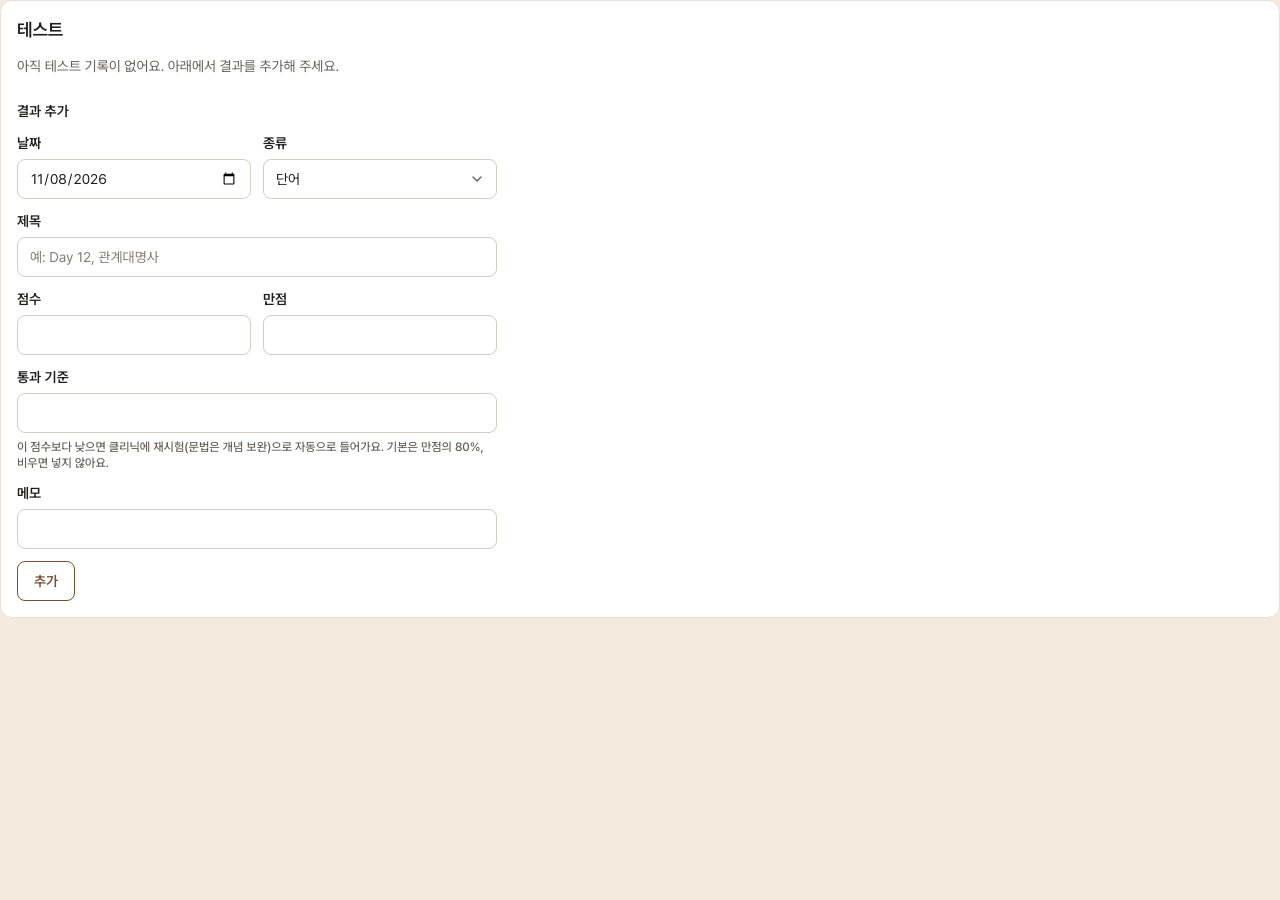
it: StudentTestsTab › does not add when the score is above the max
Step 1. Type "Day 1" into the field labelled "제목" → (257, 257), box 17,237 -> 497,277
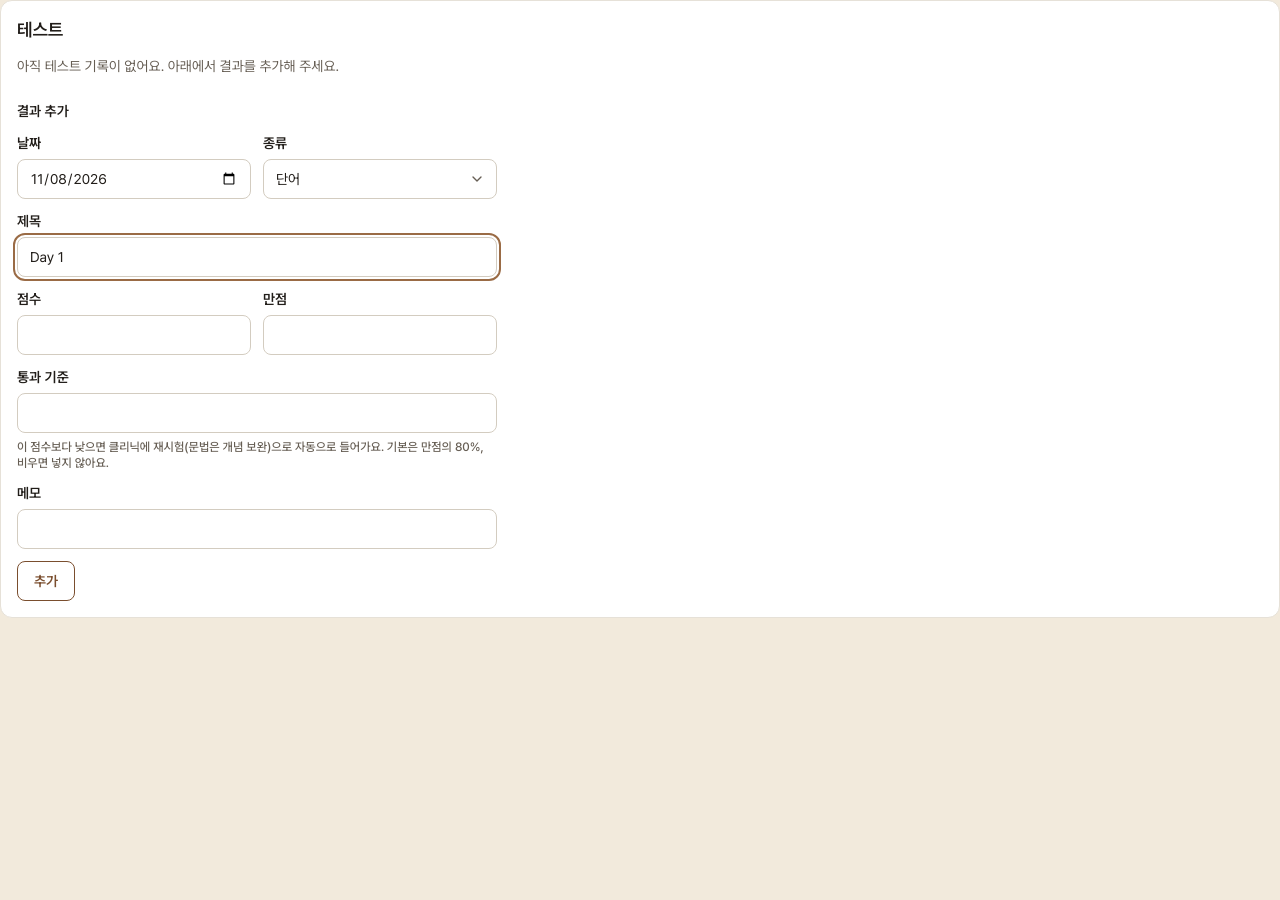
Step 2. Type "21" into the field labelled "점수" → (134, 335), box 17,315 -> 251,355
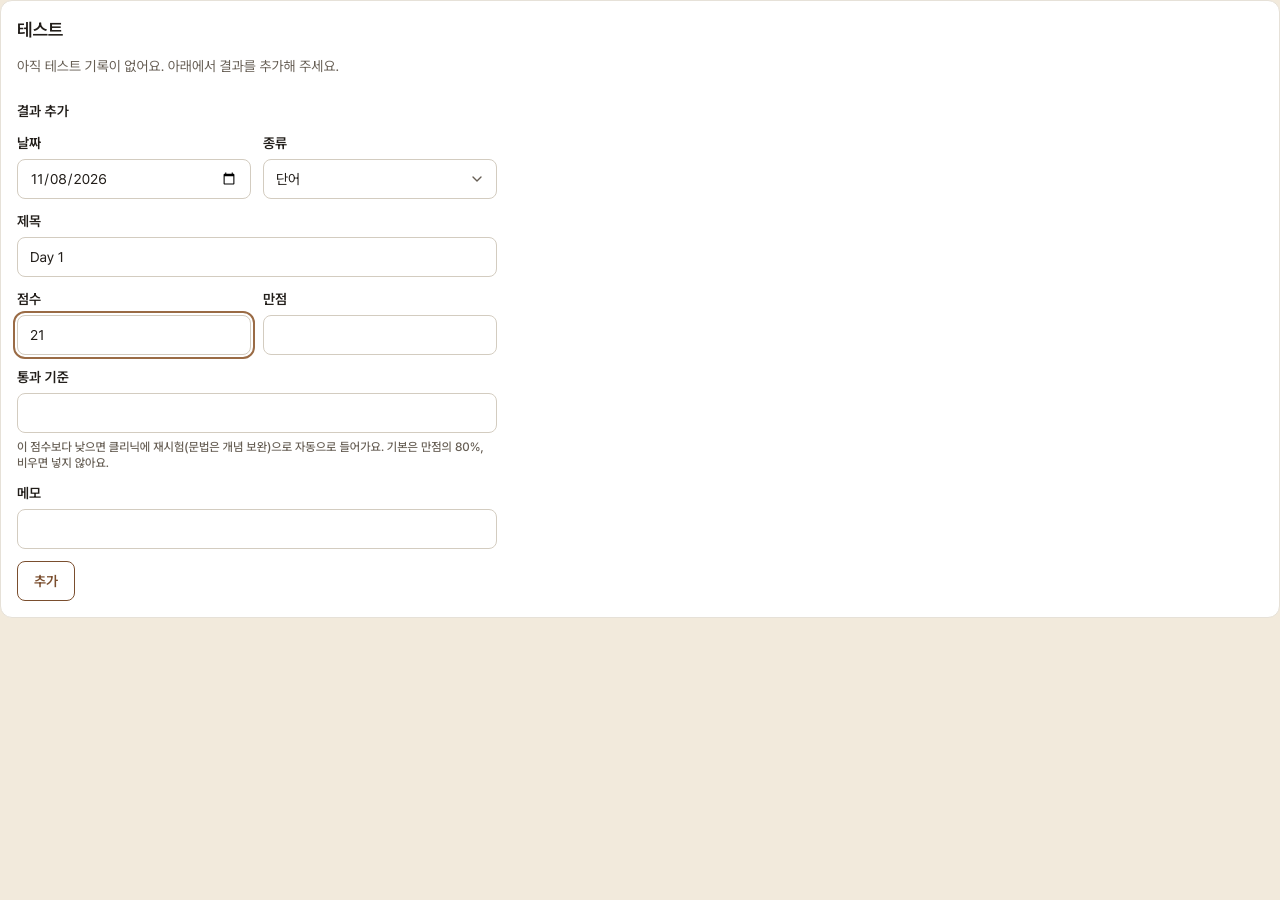
Step 3. Type "20" into the field labelled "만점" → (380, 335), box 263,315 -> 497,355
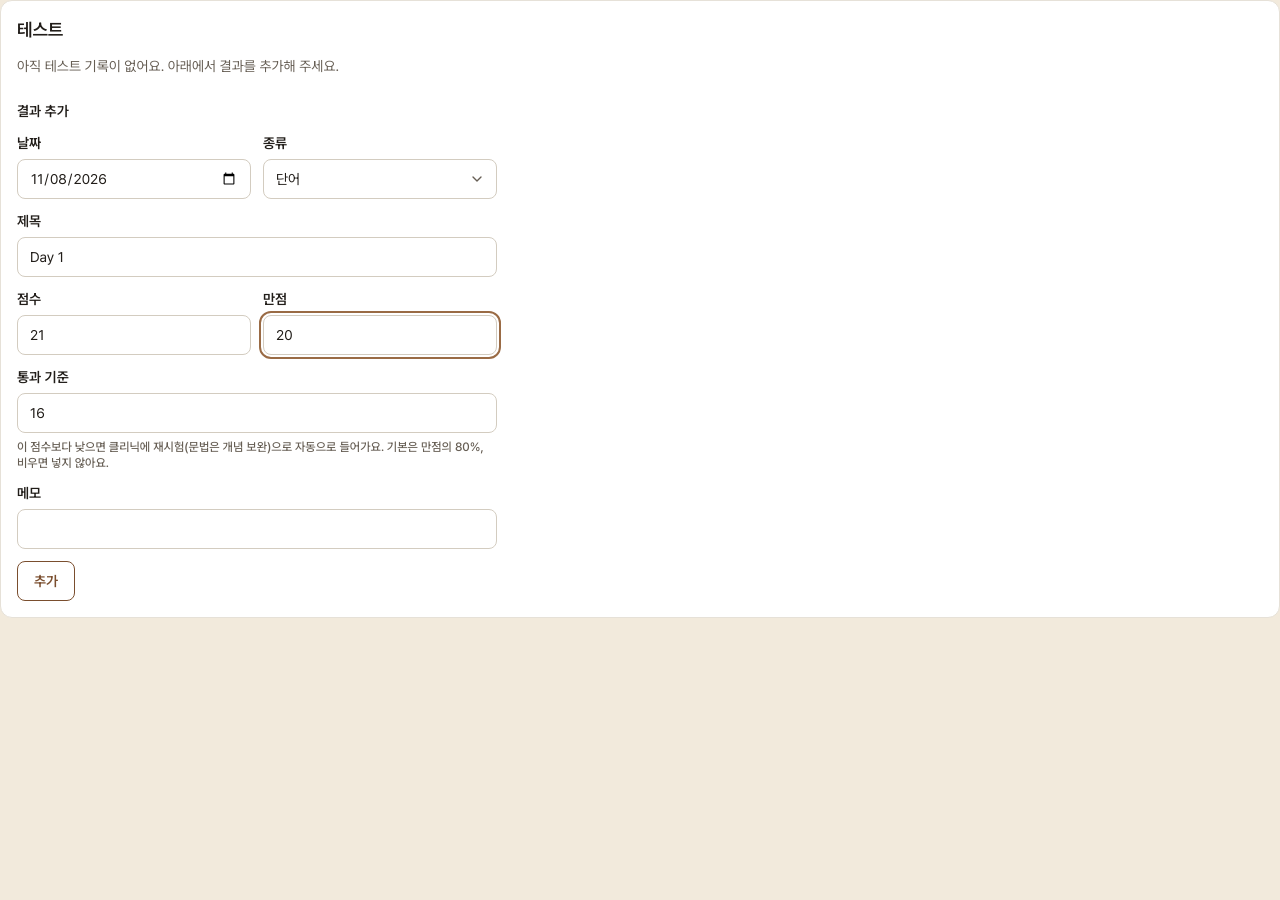
Step 4. Click the button "추가" → (46, 581), box 17,561 -> 75,601
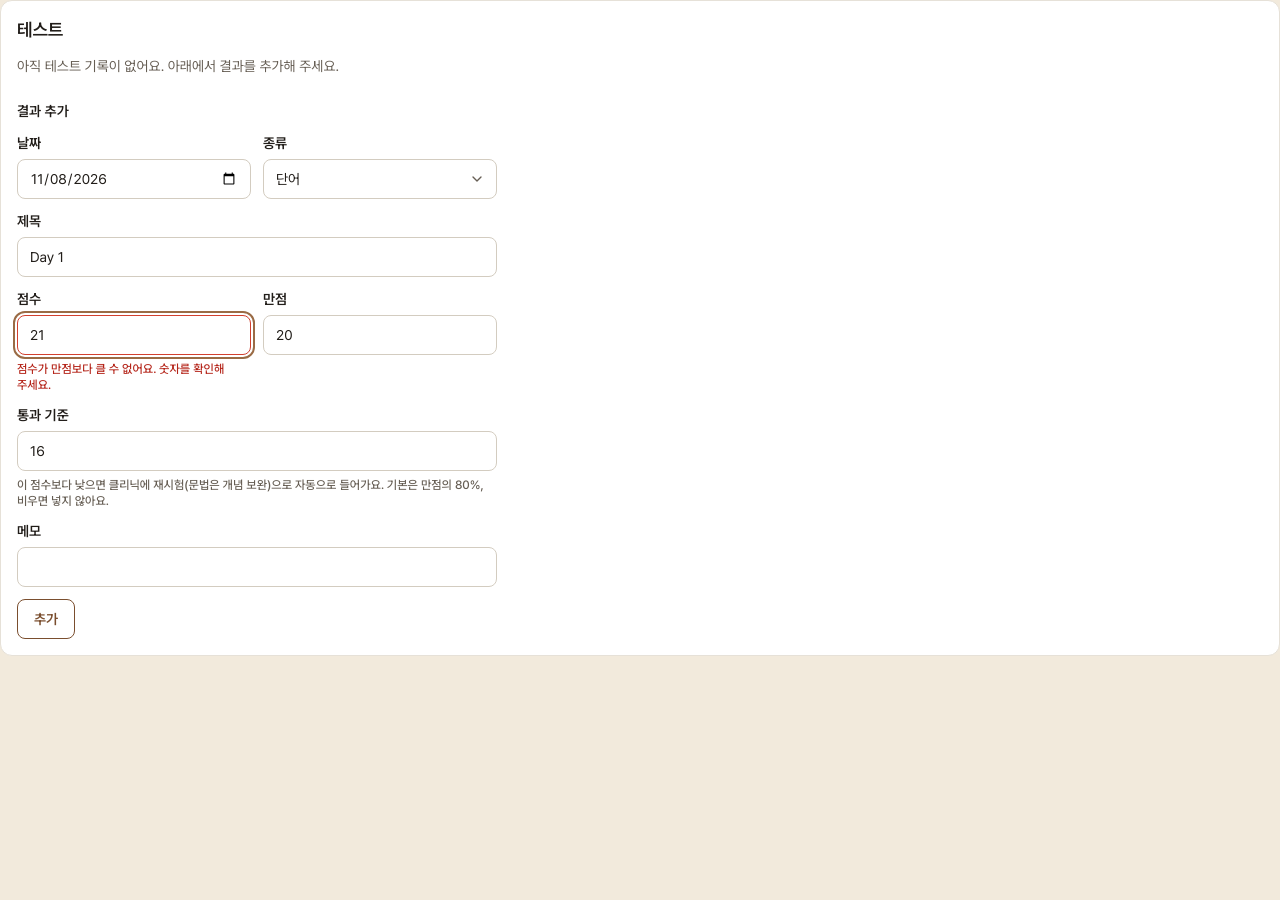
Now the text "점수가 만점보다 클 수 없어요. 숫자를 확인해 주세요." is shown, box 17,361 -> 251,393
